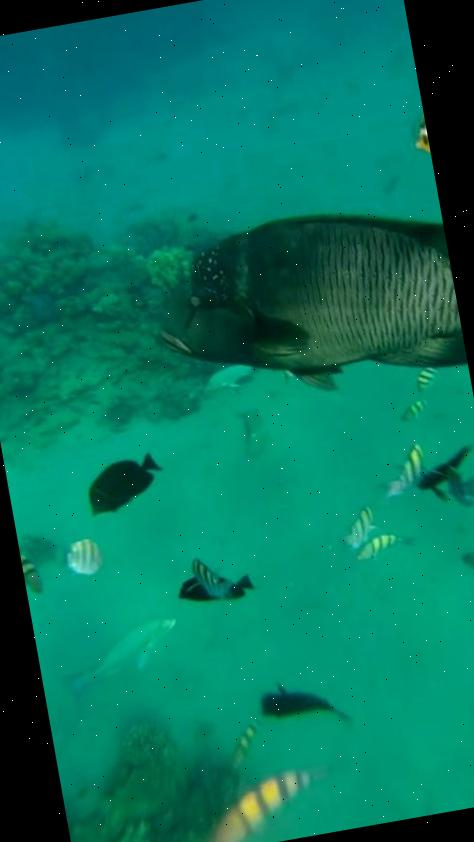fish: (139, 193, 468, 419), (49, 616, 189, 708), (195, 761, 338, 842), (256, 670, 351, 736), (81, 449, 168, 517), (171, 547, 256, 609), (374, 441, 432, 500), (353, 529, 421, 563), (334, 505, 379, 554), (61, 535, 104, 579), (20, 553, 46, 596), (397, 397, 430, 425), (413, 366, 439, 394), (459, 546, 474, 580)
